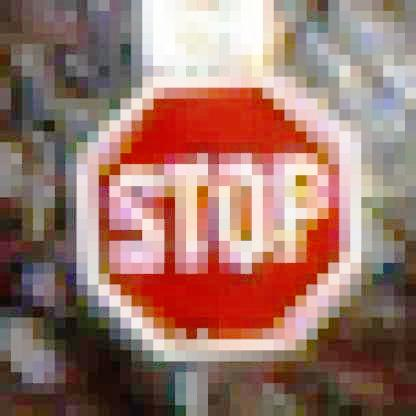Stop Sign: (80, 63, 370, 357)
